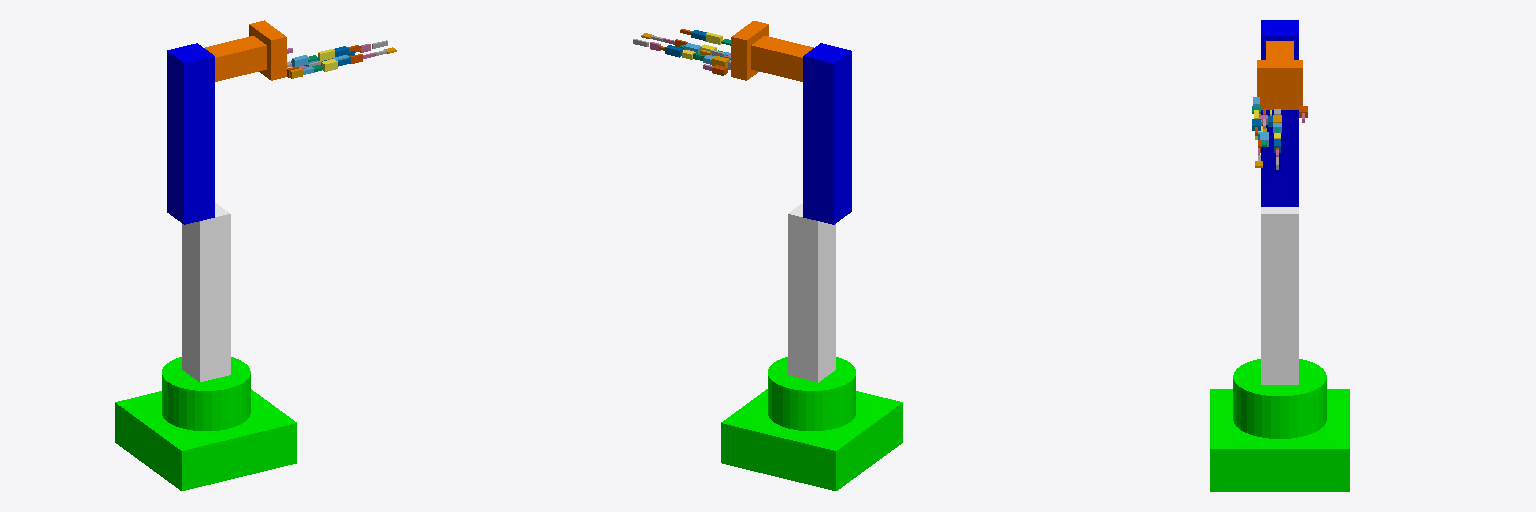
--- Facts derived from the render (not from the file) ---
3 views of the same robot in one strip: view 1: azimuth 30°, elevation 25°; view 2: azimuth 150°, elevation 25°; view 3: azimuth 270°, elevation 25° (orthographic).
Robot: robot — 38 links, 37 joints (34 revolute, 1 continuous, 2 fixed); root link base_link; default pose: all joints at 0.
Visible links, largest first — view 1: base_link, arm_link, support_link, wrist_link, palm_link; view 2: base_link, arm_link, support_link, wrist_link, palm_link; view 3: base_link, support_link, arm_link, palm_link, wrist_link.
Boxes of the visible links, box(x1,y1,x2,y2) form: base_link: box(115, 357, 296, 490); arm_link: box(167, 43, 214, 224); support_link: box(182, 203, 230, 381); wrist_link: box(205, 36, 266, 81); palm_link: box(249, 20, 286, 80); base_link: box(721, 357, 902, 490); arm_link: box(803, 43, 851, 224); support_link: box(788, 203, 835, 382); wrist_link: box(751, 36, 813, 81); palm_link: box(731, 21, 768, 80); base_link: box(1210, 359, 1349, 491); support_link: box(1261, 207, 1298, 384); arm_link: box(1261, 20, 1298, 206); palm_link: box(1257, 60, 1302, 109); wrist_link: box(1266, 41, 1293, 59).
Size in the robot's own frame: 1.54 by 0.75 by 2.52 metres.
Geometry: primitives only (box / cylinder / sphere), no mesh files.

URDF robot description (robot):
<?xml version='1.0' encoding='utf-8'?>
<robot name="robot">
  <link name="base_link">
    <visual>
      <origin xyz="0 0 0.125" rpy="0 0 0" />
      <geometry>
        <box size="0.75 0.75 0.25" />
      </geometry>
      <material name="green" />
    </visual>
    <visual>
      <origin xyz="0 0 0.375" rpy="0 0 0" />
      <geometry>
        <cylinder length="0.25" radius="0.25" />
      </geometry>
      <material name="green">
        <color rgba="0 1 0 1" />
      </material>
    </visual>
    <collision>
      <geometry>
        <box size="0.75 0.75 0.5" />
      </geometry>
    </collision>
    <inertial>
      <mass value="0.5" />
      <inertia ixx="0.034" ixy="0.0" ixz="0.0" iyy="0.034" iyz="0.0" izz="0.034" />
    </inertial>
  </link>
  <link name="support_link">
    <visual>
      <origin xyz="0 0 0.5" rpy="0 0 0" />
      <geometry>
        <box size="0.2 0.2 1" />
      </geometry>
      <material name="white">
        <color rgba="1 1 1 1" />
      </material>
    </visual>
    <collision>
      <geometry>
        <box size="0.2 0.2 1" />
      </geometry>
    </collision>
    <inertial>
      <mass value="0.1" />
      <inertia ixx="0.01" ixy="0.0" ixz="0.0" iyy="0.01" iyz="0.0" izz="0.01" />
    </inertial>
  </link>
  <joint name="support_joint" type="continuous">
    <origin xyz="0 0 0.5" rpy="0 0 0" />
    <parent link="base_link" />
    <child link="support_link" />
    <axis xyz="0 0 1" />
  </joint>
  <link name="arm_link">
    <visual>
      <origin xyz="0 0 0.5" rpy="0 0 0" />
      <geometry>
        <box size="0.2 0.2 1" />
      </geometry>
      <material name="blue">
        <color rgba="0 0 1 1" />
      </material>
    </visual>
    <collision>
      <geometry>
        <box size="0.2 0.2 1" />
      </geometry>
    </collision>
    <inertial>
      <mass value="0.1" />
      <inertia ixx="0.01" ixy="0.0" ixz="0.0" iyy="0.01" iyz="0.0" izz="0.01" />
    </inertial>
  </link>
  <joint name="arm_joint" type="revolute">
    <origin xyz="-0.1 0 1" rpy="0 0 0" />
    <parent link="support_link" />
    <child link="arm_link" />
    <axis xyz="0 1 0" />
    <limit lower="-3.14" upper="3.14" effort="1.0" velocity="1.0" />
  </joint>
  <link name="wrist_link">
    <visual>
      <origin xyz="0 0 0.25" rpy="0 0 0" />
      <geometry>
        <box size="0.15 0.15 0.5" />
      </geometry>
      <material name="orange">
        <color rgba="1 0.5 0 1" />
      </material>
    </visual>
    <collision>
      <geometry>
        <box size="0.15 0.15 0.5" />
      </geometry>
    </collision>
    <inertial>
      <mass value="0.1" />
      <inertia ixx="0.01" ixy="0.0" ixz="0.0" iyy="0.01" iyz="0.0" izz="0.01" />
    </inertial>
  </link>
  <joint name="wrist_joint" type="fixed">
    <origin xyz="0 0 0.9" rpy="0 1.571 0" />
    <parent link="arm_link" />
    <child link="wrist_link" />
  </joint>
  <link name="palm_link">
    <visual>
      <origin xyz="0 0 0.05" rpy="0 0 0" />
      <geometry>
        <box size="0.25 0.25 0.1" />
      </geometry>
      <material name="orange" />
    </visual>
    <collision>
      <geometry>
        <box size="0.25 0.25 0.1" />
      </geometry>
    </collision>
    <inertial>
      <mass value="0.1" />
      <inertia ixx="0.01" ixy="0.0" ixz="0.0" iyy="0.01" iyz="0.0" izz="0.01" />
    </inertial>
  </link>
  <joint name="palm_joint" type="fixed">
    <origin xyz="0 0 0.45" rpy="0 0 0" />
    <parent link="wrist_link" />
    <child link="palm_link" />
  </joint>
  <link name="finger_link_0_0">
    <visual>
      <origin xyz="0 0 0.0325" rpy="0 0 0" />
      <geometry>
        <box size="0.049 0.019 0.065" />
      </geometry>
    </visual>
    <collision>
      <geometry>
        <box size="0.049 0.019 0.065" />
      </geometry>
    </collision>
    <inertial>
      <mass value="0.018" />
      <inertia ixx="0.0" iyy="0.0" izz="0.0" ixy="0" ixz="0" iyz="0" />
    </inertial>
  </link>
  <joint name="finger_joint_palm_link_to_finger_link_0_0" type="revolute">
    <origin xyz="0.125 -0.083 0.132" rpy="0 0 0" />
    <parent link="palm_link" />
    <child link="finger_link_0_0" />
    <axis xyz="0.0 1.0 0.0" />
    <limit lower="-3.142" upper="3.142" effort="10" velocity="10" />
  </joint>
  <link name="finger_link_0_1">
    <visual>
      <origin xyz="0 0 0.0265" rpy="0 0 0" />
      <geometry>
        <box size="0.035 0.043 0.053" />
      </geometry>
    </visual>
    <collision>
      <geometry>
        <box size="0.035 0.043 0.053" />
      </geometry>
    </collision>
    <inertial>
      <mass value="0.024" />
      <inertia ixx="0.0" iyy="0.0" izz="0.0" ixy="0" ixz="0" iyz="0" />
    </inertial>
  </link>
  <joint name="finger_joint_finger_link_0_0_to_finger_link_0_1" type="revolute">
    <origin xyz="0.0 0.0 0.059" rpy="0 0 0" />
    <parent link="finger_link_0_0" />
    <child link="finger_link_0_1" />
    <axis xyz="0.0 1.0 0.0" />
    <limit lower="-3.142" upper="3.142" effort="10" velocity="10" />
  </joint>
  <link name="finger_link_0_2">
    <visual>
      <origin xyz="0 0 0.0445" rpy="0 0 0" />
      <geometry>
        <box size="0.049 0.015 0.089" />
      </geometry>
    </visual>
    <collision>
      <geometry>
        <box size="0.049 0.015 0.089" />
      </geometry>
    </collision>
    <inertial>
      <mass value="0.02" />
      <inertia ixx="0.0" iyy="0.0" izz="0.0" ixy="0" ixz="0" iyz="0" />
    </inertial>
  </link>
  <joint name="finger_joint_finger_link_0_1_to_finger_link_0_2" type="revolute">
    <origin xyz="0.0 0.0 0.071" rpy="0 0 0" />
    <parent link="finger_link_0_1" />
    <child link="finger_link_0_2" />
    <axis xyz="0.0 1.0 0.0" />
    <limit lower="-3.142" upper="3.142" effort="10" velocity="10" />
  </joint>
  <link name="finger_link_0_3">
    <visual>
      <origin xyz="0 0 0.0365" rpy="0 0 0" />
      <geometry>
        <box size="0.021 0.025 0.073" />
      </geometry>
    </visual>
    <collision>
      <geometry>
        <box size="0.021 0.025 0.073" />
      </geometry>
    </collision>
    <inertial>
      <mass value="0.011" />
      <inertia ixx="0.0" iyy="0.0" izz="0.0" ixy="0" ixz="0" iyz="0" />
    </inertial>
  </link>
  <joint name="finger_joint_finger_link_0_2_to_finger_link_0_3" type="revolute">
    <origin xyz="0.0 0.0 0.081" rpy="0 0 0" />
    <parent link="finger_link_0_2" />
    <child link="finger_link_0_3" />
    <axis xyz="0.0 1.0 0.0" />
    <limit lower="-3.142" upper="3.142" effort="10" velocity="10" />
  </joint>
  <link name="finger_link_0_4">
    <visual>
      <origin xyz="0 0 0.0455" rpy="0 0 0" />
      <geometry>
        <box size="0.045 0.049 0.091" />
      </geometry>
    </visual>
    <collision>
      <geometry>
        <box size="0.045 0.049 0.091" />
      </geometry>
    </collision>
    <inertial>
      <mass value="0.06" />
      <inertia ixx="0.0" iyy="0.0" izz="0.0" ixy="0" ixz="0" iyz="0" />
    </inertial>
  </link>
  <joint name="finger_joint_finger_link_0_3_to_finger_link_0_4" type="revolute">
    <origin xyz="0.0 0.0 0.082" rpy="0 0 0" />
    <parent link="finger_link_0_3" />
    <child link="finger_link_0_4" />
    <axis xyz="0.0 1.0 0.0" />
    <limit lower="-3.142" upper="3.142" effort="10" velocity="10" />
  </joint>
  <link name="finger_link_0_5">
    <visual>
      <origin xyz="0 0 0.026" rpy="0 0 0" />
      <geometry>
        <box size="0.014 0.031 0.052" />
      </geometry>
    </visual>
    <collision>
      <geometry>
        <box size="0.014 0.031 0.052" />
      </geometry>
    </collision>
    <inertial>
      <mass value="0.007" />
      <inertia ixx="0.0" iyy="0.0" izz="0.0" ixy="0" ixz="0" iyz="0" />
    </inertial>
  </link>
  <joint name="finger_joint_finger_link_0_4_to_finger_link_0_5" type="revolute">
    <origin xyz="0.0 0.0 0.071" rpy="0 0 0" />
    <parent link="finger_link_0_4" />
    <child link="finger_link_0_5" />
    <axis xyz="0.0 1.0 0.0" />
    <limit lower="-3.142" upper="3.142" effort="10" velocity="10" />
  </joint>
  <link name="finger_link_1_0">
    <visual>
      <origin xyz="0 0 0.0255" rpy="0 0 0" />
      <geometry>
        <box size="0.027 0.012 0.051" />
      </geometry>
    </visual>
    <collision>
      <geometry>
        <box size="0.027 0.012 0.051" />
      </geometry>
    </collision>
    <inertial>
      <mass value="0.005" />
      <inertia ixx="0.0" iyy="0.0" izz="0.0" ixy="0" ixz="0" iyz="0" />
    </inertial>
  </link>
  <joint name="finger_joint_palm_link_to_finger_link_1_0" type="revolute">
    <origin xyz="0.125 -0.048 0.126" rpy="0 0 0" />
    <parent link="palm_link" />
    <child link="finger_link_1_0" />
    <axis xyz="0.0 1.0 0.0" />
    <limit lower="-3.142" upper="3.142" effort="10" velocity="10" />
  </joint>
  <link name="finger_link_1_1">
    <visual>
      <origin xyz="0 0 0.042" rpy="0 0 0" />
      <geometry>
        <box size="0.027 0.028 0.084" />
      </geometry>
    </visual>
    <collision>
      <geometry>
        <box size="0.027 0.028 0.084" />
      </geometry>
    </collision>
    <inertial>
      <mass value="0.019" />
      <inertia ixx="0.0" iyy="0.0" izz="0.0" ixy="0" ixz="0" iyz="0" />
    </inertial>
  </link>
  <joint name="finger_joint_finger_link_1_0_to_finger_link_1_1" type="revolute">
    <origin xyz="0.0 0.0 0.068" rpy="0 0 0" />
    <parent link="finger_link_1_0" />
    <child link="finger_link_1_1" />
    <axis xyz="0.0 1.0 0.0" />
    <limit lower="-3.142" upper="3.142" effort="10" velocity="10" />
  </joint>
  <link name="finger_link_2_0">
    <visual>
      <origin xyz="0 0 0.0385" rpy="0 0 0" />
      <geometry>
        <box size="0.035 0.043 0.077" />
      </geometry>
    </visual>
    <collision>
      <geometry>
        <box size="0.035 0.043 0.077" />
      </geometry>
    </collision>
    <inertial>
      <mass value="0.035" />
      <inertia ixx="0.0" iyy="0.0" izz="0.0" ixy="0" ixz="0" iyz="0" />
    </inertial>
  </link>
  <joint name="finger_joint_palm_link_to_finger_link_2_0" type="revolute">
    <origin xyz="0.101 0.125 0.138" rpy="0 0 0" />
    <parent link="palm_link" />
    <child link="finger_link_2_0" />
    <axis xyz="-1.0 0.0 0.0" />
    <limit lower="-3.142" upper="3.142" effort="10" velocity="10" />
  </joint>
  <link name="finger_link_2_1">
    <visual>
      <origin xyz="0 0 0.035" rpy="0 0 0" />
      <geometry>
        <box size="0.024 0.016 0.07" />
      </geometry>
    </visual>
    <collision>
      <geometry>
        <box size="0.024 0.016 0.07" />
      </geometry>
    </collision>
    <inertial>
      <mass value="0.008" />
      <inertia ixx="0.0" iyy="0.0" izz="0.0" ixy="0" ixz="0" iyz="0" />
    </inertial>
  </link>
  <joint name="finger_joint_finger_link_2_0_to_finger_link_2_1" type="revolute">
    <origin xyz="0.0 0.0 0.073" rpy="0 0 0" />
    <parent link="finger_link_2_0" />
    <child link="finger_link_2_1" />
    <axis xyz="-1.0 0.0 0.0" />
    <limit lower="-3.142" upper="3.142" effort="10" velocity="10" />
  </joint>
  <link name="finger_link_3_0">
    <visual>
      <origin xyz="0 0 0.031" rpy="0 0 0" />
      <geometry>
        <box size="0.047 0.037 0.062" />
      </geometry>
    </visual>
    <collision>
      <geometry>
        <box size="0.047 0.037 0.062" />
      </geometry>
    </collision>
    <inertial>
      <mass value="0.032" />
      <inertia ixx="0.0" iyy="0.0" izz="0.0" ixy="0" ixz="0" iyz="0" />
    </inertial>
  </link>
  <joint name="finger_joint_palm_link_to_finger_link_3_0" type="revolute">
    <origin xyz="0.125 -0.013 0.131" rpy="0 0 0" />
    <parent link="palm_link" />
    <child link="finger_link_3_0" />
    <axis xyz="0.0 1.0 0.0" />
    <limit lower="-3.142" upper="3.142" effort="10" velocity="10" />
  </joint>
  <link name="finger_link_3_1">
    <visual>
      <origin xyz="0 0 0.044" rpy="0 0 0" />
      <geometry>
        <box size="0.047 0.049 0.088" />
      </geometry>
    </visual>
    <collision>
      <geometry>
        <box size="0.047 0.049 0.088" />
      </geometry>
    </collision>
    <inertial>
      <mass value="0.061" />
      <inertia ixx="0.0" iyy="0.0" izz="0.0" ixy="0" ixz="0" iyz="0" />
    </inertial>
  </link>
  <joint name="finger_joint_finger_link_3_0_to_finger_link_3_1" type="revolute">
    <origin xyz="0.0 0.0 0.075" rpy="0 0 0" />
    <parent link="finger_link_3_0" />
    <child link="finger_link_3_1" />
    <axis xyz="0.0 1.0 0.0" />
    <limit lower="-3.142" upper="3.142" effort="10" velocity="10" />
  </joint>
  <link name="finger_link_3_2">
    <visual>
      <origin xyz="0 0 0.033" rpy="0 0 0" />
      <geometry>
        <box size="0.031 0.047 0.066" />
      </geometry>
    </visual>
    <collision>
      <geometry>
        <box size="0.031 0.047 0.066" />
      </geometry>
    </collision>
    <inertial>
      <mass value="0.029" />
      <inertia ixx="0.0" iyy="0.0" izz="0.0" ixy="0" ixz="0" iyz="0" />
    </inertial>
  </link>
  <joint name="finger_joint_finger_link_3_1_to_finger_link_3_2" type="revolute">
    <origin xyz="0.0 0.0 0.077" rpy="0 0 0" />
    <parent link="finger_link_3_1" />
    <child link="finger_link_3_2" />
    <axis xyz="0.0 1.0 0.0" />
    <limit lower="-3.142" upper="3.142" effort="10" velocity="10" />
  </joint>
  <link name="finger_link_3_3">
    <visual>
      <origin xyz="0 0 0.038" rpy="0 0 0" />
      <geometry>
        <box size="0.032 0.013 0.076" />
      </geometry>
    </visual>
    <collision>
      <geometry>
        <box size="0.032 0.013 0.076" />
      </geometry>
    </collision>
    <inertial>
      <mass value="0.009" />
      <inertia ixx="0.0" iyy="0.0" izz="0.0" ixy="0" ixz="0" iyz="0" />
    </inertial>
  </link>
  <joint name="finger_joint_finger_link_3_2_to_finger_link_3_3" type="revolute">
    <origin xyz="0.0 0.0 0.071" rpy="0 0 0" />
    <parent link="finger_link_3_2" />
    <child link="finger_link_3_3" />
    <axis xyz="0.0 1.0 0.0" />
    <limit lower="-3.142" upper="3.142" effort="10" velocity="10" />
  </joint>
  <link name="finger_link_3_4">
    <visual>
      <origin xyz="0 0 0.032" rpy="0 0 0" />
      <geometry>
        <box size="0.033 0.041 0.064" />
      </geometry>
    </visual>
    <collision>
      <geometry>
        <box size="0.033 0.041 0.064" />
      </geometry>
    </collision>
    <inertial>
      <mass value="0.026" />
      <inertia ixx="0.0" iyy="0.0" izz="0.0" ixy="0" ixz="0" iyz="0" />
    </inertial>
  </link>
  <joint name="finger_joint_finger_link_3_3_to_finger_link_3_4" type="revolute">
    <origin xyz="0.0 0.0 0.07" rpy="0 0 0" />
    <parent link="finger_link_3_3" />
    <child link="finger_link_3_4" />
    <axis xyz="0.0 1.0 0.0" />
    <limit lower="-3.142" upper="3.142" effort="10" velocity="10" />
  </joint>
  <link name="finger_link_3_5">
    <visual>
      <origin xyz="0 0 0.0465" rpy="0 0 0" />
      <geometry>
        <box size="0.041 0.04 0.093" />
      </geometry>
    </visual>
    <collision>
      <geometry>
        <box size="0.041 0.04 0.093" />
      </geometry>
    </collision>
    <inertial>
      <mass value="0.046" />
      <inertia ixx="0.0" iyy="0.0" izz="0.0" ixy="0" ixz="0" iyz="0" />
    </inertial>
  </link>
  <joint name="finger_joint_finger_link_3_4_to_finger_link_3_5" type="revolute">
    <origin xyz="0.0 0.0 0.079" rpy="0 0 0" />
    <parent link="finger_link_3_4" />
    <child link="finger_link_3_5" />
    <axis xyz="0.0 1.0 0.0" />
    <limit lower="-3.142" upper="3.142" effort="10" velocity="10" />
  </joint>
  <link name="finger_link_3_6">
    <visual>
      <origin xyz="0 0 0.0315" rpy="0 0 0" />
      <geometry>
        <box size="0.015 0.017 0.063" />
      </geometry>
    </visual>
    <collision>
      <geometry>
        <box size="0.015 0.017 0.063" />
      </geometry>
    </collision>
    <inertial>
      <mass value="0.005" />
      <inertia ixx="0.0" iyy="0.0" izz="0.0" ixy="0" ixz="0" iyz="0" />
    </inertial>
  </link>
  <joint name="finger_joint_finger_link_3_5_to_finger_link_3_6" type="revolute">
    <origin xyz="0.0 0.0 0.078" rpy="0 0 0" />
    <parent link="finger_link_3_5" />
    <child link="finger_link_3_6" />
    <axis xyz="0.0 1.0 0.0" />
    <limit lower="-3.142" upper="3.142" effort="10" velocity="10" />
  </joint>
  <link name="finger_link_3_7">
    <visual>
      <origin xyz="0 0 0.0305" rpy="0 0 0" />
      <geometry>
        <box size="0.04 0.015 0.061" />
      </geometry>
    </visual>
    <collision>
      <geometry>
        <box size="0.04 0.015 0.061" />
      </geometry>
    </collision>
    <inertial>
      <mass value="0.011" />
      <inertia ixx="0.0" iyy="0.0" izz="0.0" ixy="0" ixz="0" iyz="0" />
    </inertial>
  </link>
  <joint name="finger_joint_finger_link_3_6_to_finger_link_3_7" type="revolute">
    <origin xyz="0.0 0.0 0.062" rpy="0 0 0" />
    <parent link="finger_link_3_6" />
    <child link="finger_link_3_7" />
    <axis xyz="0.0 1.0 0.0" />
    <limit lower="-3.142" upper="3.142" effort="10" velocity="10" />
  </joint>
  <link name="finger_link_3_8">
    <visual>
      <origin xyz="0 0 0.0475" rpy="0 0 0" />
      <geometry>
        <box size="0.028 0.012 0.095" />
      </geometry>
    </visual>
    <collision>
      <geometry>
        <box size="0.028 0.012 0.095" />
      </geometry>
    </collision>
    <inertial>
      <mass value="0.01" />
      <inertia ixx="0.0" iyy="0.0" izz="0.0" ixy="0" ixz="0" iyz="0" />
    </inertial>
  </link>
  <joint name="finger_joint_finger_link_3_7_to_finger_link_3_8" type="revolute">
    <origin xyz="0.0 0.0 0.078" rpy="0 0 0" />
    <parent link="finger_link_3_7" />
    <child link="finger_link_3_8" />
    <axis xyz="0.0 1.0 0.0" />
    <limit lower="-3.142" upper="3.142" effort="10" velocity="10" />
  </joint>
  <link name="finger_link_4_0">
    <visual>
      <origin xyz="0 0 0.0355" rpy="0 0 0" />
      <geometry>
        <box size="0.044 0.021 0.071" />
      </geometry>
    </visual>
    <collision>
      <geometry>
        <box size="0.044 0.021 0.071" />
      </geometry>
    </collision>
    <inertial>
      <mass value="0.02" />
      <inertia ixx="0.0" iyy="0.0" izz="0.0" ixy="0" ixz="0" iyz="0" />
    </inertial>
  </link>
  <joint name="finger_joint_palm_link_to_finger_link_4_0" type="revolute">
    <origin xyz="0.125 -0.111 0.135" rpy="0 0 0" />
    <parent link="palm_link" />
    <child link="finger_link_4_0" />
    <axis xyz="0.0 1.0 0.0" />
    <limit lower="-3.142" upper="3.142" effort="10" velocity="10" />
  </joint>
  <link name="finger_link_4_1">
    <visual>
      <origin xyz="0 0 0.0365" rpy="0 0 0" />
      <geometry>
        <box size="0.026 0.03 0.073" />
      </geometry>
    </visual>
    <collision>
      <geometry>
        <box size="0.026 0.03 0.073" />
      </geometry>
    </collision>
    <inertial>
      <mass value="0.017" />
      <inertia ixx="0.0" iyy="0.0" izz="0.0" ixy="0" ixz="0" iyz="0" />
    </inertial>
  </link>
  <joint name="finger_joint_finger_link_4_0_to_finger_link_4_1" type="revolute">
    <origin xyz="0.0 0.0 0.072" rpy="0 0 0" />
    <parent link="finger_link_4_0" />
    <child link="finger_link_4_1" />
    <axis xyz="0.0 1.0 0.0" />
    <limit lower="-3.142" upper="3.142" effort="10" velocity="10" />
  </joint>
  <link name="finger_link_4_2">
    <visual>
      <origin xyz="0 0 0.0295" rpy="0 0 0" />
      <geometry>
        <box size="0.022 0.032 0.059" />
      </geometry>
    </visual>
    <collision>
      <geometry>
        <box size="0.022 0.032 0.059" />
      </geometry>
    </collision>
    <inertial>
      <mass value="0.012" />
      <inertia ixx="0.0" iyy="0.0" izz="0.0" ixy="0" ixz="0" iyz="0" />
    </inertial>
  </link>
  <joint name="finger_joint_finger_link_4_1_to_finger_link_4_2" type="revolute">
    <origin xyz="0.0 0.0 0.066" rpy="0 0 0" />
    <parent link="finger_link_4_1" />
    <child link="finger_link_4_2" />
    <axis xyz="0.0 1.0 0.0" />
    <limit lower="-3.142" upper="3.142" effort="10" velocity="10" />
  </joint>
  <link name="finger_link_4_3">
    <visual>
      <origin xyz="0 0 0.0415" rpy="0 0 0" />
      <geometry>
        <box size="0.047 0.042 0.083" />
      </geometry>
    </visual>
    <collision>
      <geometry>
        <box size="0.047 0.042 0.083" />
      </geometry>
    </collision>
    <inertial>
      <mass value="0.049" />
      <inertia ixx="0.0" iyy="0.0" izz="0.0" ixy="0" ixz="0" iyz="0" />
    </inertial>
  </link>
  <joint name="finger_joint_finger_link_4_2_to_finger_link_4_3" type="revolute">
    <origin xyz="0.0 0.0 0.071" rpy="0 0 0" />
    <parent link="finger_link_4_2" />
    <child link="finger_link_4_3" />
    <axis xyz="0.0 1.0 0.0" />
    <limit lower="-3.142" upper="3.142" effort="10" velocity="10" />
  </joint>
  <link name="finger_link_4_4">
    <visual>
      <origin xyz="0 0 0.0495" rpy="0 0 0" />
      <geometry>
        <box size="0.03 0.014 0.099" />
      </geometry>
    </visual>
    <collision>
      <geometry>
        <box size="0.03 0.014 0.099" />
      </geometry>
    </collision>
    <inertial>
      <mass value="0.012" />
      <inertia ixx="0.0" iyy="0.0" izz="0.0" ixy="0" ixz="0" iyz="0" />
    </inertial>
  </link>
  <joint name="finger_joint_finger_link_4_3_to_finger_link_4_4" type="revolute">
    <origin xyz="0.0 0.0 0.091" rpy="0 0 0" />
    <parent link="finger_link_4_3" />
    <child link="finger_link_4_4" />
    <axis xyz="0.0 1.0 0.0" />
    <limit lower="-3.142" upper="3.142" effort="10" velocity="10" />
  </joint>
  <link name="finger_link_4_5">
    <visual>
      <origin xyz="0 0 0.0375" rpy="0 0 0" />
      <geometry>
        <box size="0.043 0.015 0.075" />
      </geometry>
    </visual>
    <collision>
      <geometry>
        <box size="0.043 0.015 0.075" />
      </geometry>
    </collision>
    <inertial>
      <mass value="0.015" />
      <inertia ixx="0.0" iyy="0.0" izz="0.0" ixy="0" ixz="0" iyz="0" />
    </inertial>
  </link>
  <joint name="finger_joint_finger_link_4_4_to_finger_link_4_5" type="revolute">
    <origin xyz="0.0 0.0 0.087" rpy="0 0 0" />
    <parent link="finger_link_4_4" />
    <child link="finger_link_4_5" />
    <axis xyz="0.0 1.0 0.0" />
    <limit lower="-3.142" upper="3.142" effort="10" velocity="10" />
  </joint>
  <link name="finger_link_4_6">
    <visual>
      <origin xyz="0 0 0.0385" rpy="0 0 0" />
      <geometry>
        <box size="0.021 0.011 0.077" />
      </geometry>
    </visual>
    <collision>
      <geometry>
        <box size="0.021 0.011 0.077" />
      </geometry>
    </collision>
    <inertial>
      <mass value="0.005" />
      <inertia ixx="0.0" iyy="0.0" izz="0.0" ixy="0" ixz="0" iyz="0" />
    </inertial>
  </link>
  <joint name="finger_joint_finger_link_4_5_to_finger_link_4_6" type="revolute">
    <origin xyz="0.0 0.0 0.076" rpy="0 0 0" />
    <parent link="finger_link_4_5" />
    <child link="finger_link_4_6" />
    <axis xyz="0.0 1.0 0.0" />
    <limit lower="-3.142" upper="3.142" effort="10" velocity="10" />
  </joint>
  <link name="finger_link_4_7">
    <visual>
      <origin xyz="0 0 0.042" rpy="0 0 0" />
      <geometry>
        <box size="0.016 0.017 0.084" />
      </geometry>
    </visual>
    <collision>
      <geometry>
        <box size="0.016 0.017 0.084" />
      </geometry>
    </collision>
    <inertial>
      <mass value="0.007" />
      <inertia ixx="0.0" iyy="0.0" izz="0.0" ixy="0" ixz="0" iyz="0" />
    </inertial>
  </link>
  <joint name="finger_joint_finger_link_4_6_to_finger_link_4_7" type="revolute">
    <origin xyz="0.0 0.0 0.081" rpy="0 0 0" />
    <parent link="finger_link_4_6" />
    <child link="finger_link_4_7" />
    <axis xyz="0.0 1.0 0.0" />
    <limit lower="-3.142" upper="3.142" effort="10" velocity="10" />
  </joint>
  <link name="finger_link_4_8">
    <visual>
      <origin xyz="0 0 0.0295" rpy="0 0 0" />
      <geometry>
        <box size="0.011 0.044 0.059" />
      </geometry>
    </visual>
    <collision>
      <geometry>
        <box size="0.011 0.044 0.059" />
      </geometry>
    </collision>
    <inertial>
      <mass value="0.009" />
      <inertia ixx="0.0" iyy="0.0" izz="0.0" ixy="0" ixz="0" iyz="0" />
    </inertial>
  </link>
  <joint name="finger_joint_finger_link_4_7_to_finger_link_4_8" type="revolute">
    <origin xyz="0.0 0.0 0.072" rpy="0 0 0" />
    <parent link="finger_link_4_7" />
    <child link="finger_link_4_8" />
    <axis xyz="0.0 1.0 0.0" />
    <limit lower="-3.142" upper="3.142" effort="10" velocity="10" />
  </joint>
  <link name="finger_link_5_0">
    <visual>
      <origin xyz="0 0 0.0455" rpy="0 0 0" />
      <geometry>
        <box size="0.042 0.04 0.091" />
      </geometry>
    </visual>
    <collision>
      <geometry>
        <box size="0.042 0.04 0.091" />
      </geometry>
    </collision>
    <inertial>
      <mass value="0.046" />
      <inertia ixx="0.0" iyy="0.0" izz="0.0" ixy="0" ixz="0" iyz="0" />
    </inertial>
  </link>
  <joint name="finger_joint_palm_link_to_finger_link_5_0" type="revolute">
    <origin xyz="0.048 -0.125 0.145" rpy="0 0 0" />
    <parent link="palm_link" />
    <child link="finger_link_5_0" />
    <axis xyz="1.0 0.0 0.0" />
    <limit lower="-3.142" upper="3.142" effort="10" velocity="10" />
  </joint>
  <link name="finger_link_5_1">
    <visual>
      <origin xyz="0 0 0.0355" rpy="0 0 0" />
      <geometry>
        <box size="0.011 0.045 0.071" />
      </geometry>
    </visual>
    <collision>
      <geometry>
        <box size="0.011 0.045 0.071" />
      </geometry>
    </collision>
    <inertial>
      <mass value="0.011" />
      <inertia ixx="0.0" iyy="0.0" izz="0.0" ixy="0" ixz="0" iyz="0" />
    </inertial>
  </link>
  <joint name="finger_joint_finger_link_5_0_to_finger_link_5_1" type="revolute">
    <origin xyz="0.0 0.0 0.081" rpy="0 0 0" />
    <parent link="finger_link_5_0" />
    <child link="finger_link_5_1" />
    <axis xyz="1.0 0.0 0.0" />
    <limit lower="-3.142" upper="3.142" effort="10" velocity="10" />
  </joint>
  <link name="finger_link_5_2">
    <visual>
      <origin xyz="0 0 0.0485" rpy="0 0 0" />
      <geometry>
        <box size="0.046 0.028 0.097" />
      </geometry>
    </visual>
    <collision>
      <geometry>
        <box size="0.046 0.028 0.097" />
      </geometry>
    </collision>
    <inertial>
      <mass value="0.037" />
      <inertia ixx="0.0" iyy="0.0" izz="0.0" ixy="0" ixz="0" iyz="0" />
    </inertial>
  </link>
  <joint name="finger_joint_finger_link_5_1_to_finger_link_5_2" type="revolute">
    <origin xyz="0.0 0.0 0.084" rpy="0 0 0" />
    <parent link="finger_link_5_1" />
    <child link="finger_link_5_2" />
    <axis xyz="1.0 0.0 0.0" />
    <limit lower="-3.142" upper="3.142" effort="10" velocity="10" />
  </joint>
  <link name="finger_link_5_3">
    <visual>
      <origin xyz="0 0 0.0445" rpy="0 0 0" />
      <geometry>
        <box size="0.032 0.044 0.089" />
      </geometry>
    </visual>
    <collision>
      <geometry>
        <box size="0.032 0.044 0.089" />
      </geometry>
    </collision>
    <inertial>
      <mass value="0.038" />
      <inertia ixx="0.0" iyy="0.0" izz="0.0" ixy="0" ixz="0" iyz="0" />
    </inertial>
  </link>
  <joint name="finger_joint_finger_link_5_2_to_finger_link_5_3" type="revolute">
    <origin xyz="0.0 0.0 0.093" rpy="0 0 0" />
    <parent link="finger_link_5_2" />
    <child link="finger_link_5_3" />
    <axis xyz="1.0 0.0 0.0" />
    <limit lower="-3.142" upper="3.142" effort="10" velocity="10" />
  </joint>
  <link name="finger_link_5_4">
    <visual>
      <origin xyz="0 0 0.041" rpy="0 0 0" />
      <geometry>
        <box size="0.021 0.017 0.082" />
      </geometry>
    </visual>
    <collision>
      <geometry>
        <box size="0.021 0.017 0.082" />
      </geometry>
    </collision>
    <inertial>
      <mass value="0.009" />
      <inertia ixx="0.0" iyy="0.0" izz="0.0" ixy="0" ixz="0" iyz="0" />
    </inertial>
  </link>
  <joint name="finger_joint_finger_link_5_3_to_finger_link_5_4" type="revolute">
    <origin xyz="0.0 0.0 0.085" rpy="0 0 0" />
    <parent link="finger_link_5_3" />
    <child link="finger_link_5_4" />
    <axis xyz="1.0 0.0 0.0" />
    <limit lower="-3.142" upper="3.142" effort="10" velocity="10" />
  </joint>
</robot>
